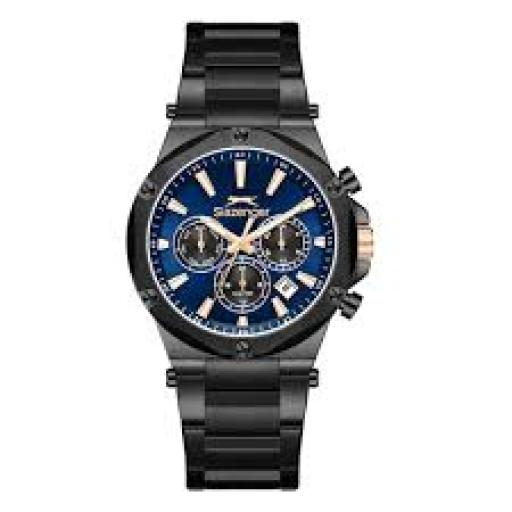KolSaati: (130, 10, 384, 503)
